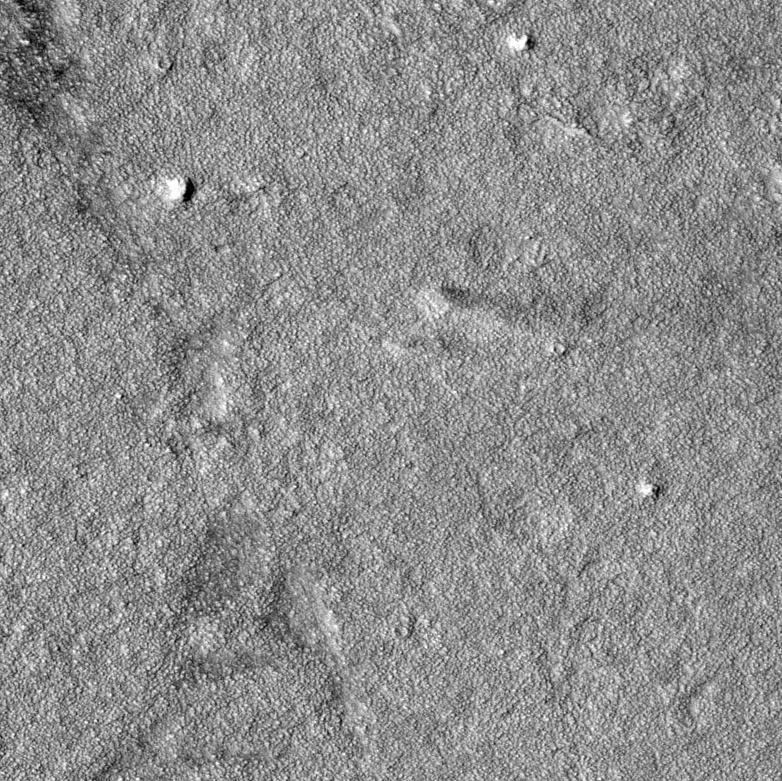dust_devil: (422, 284, 535, 334)
